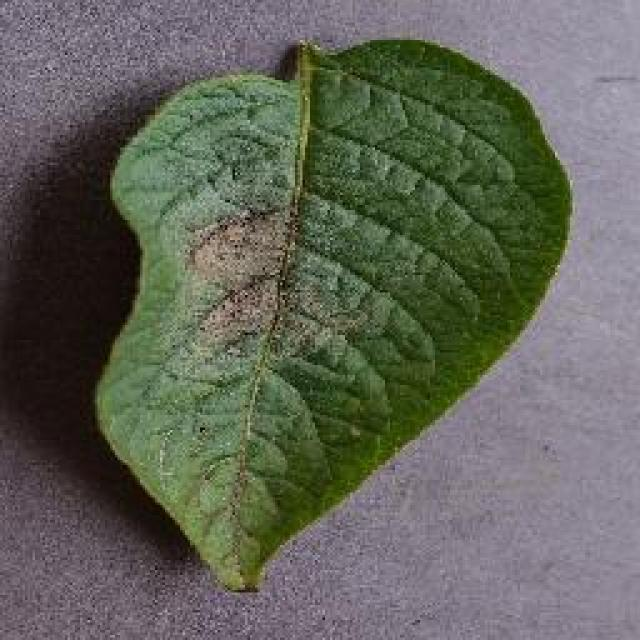Potato___Late_blight: (89, 32, 578, 596)
